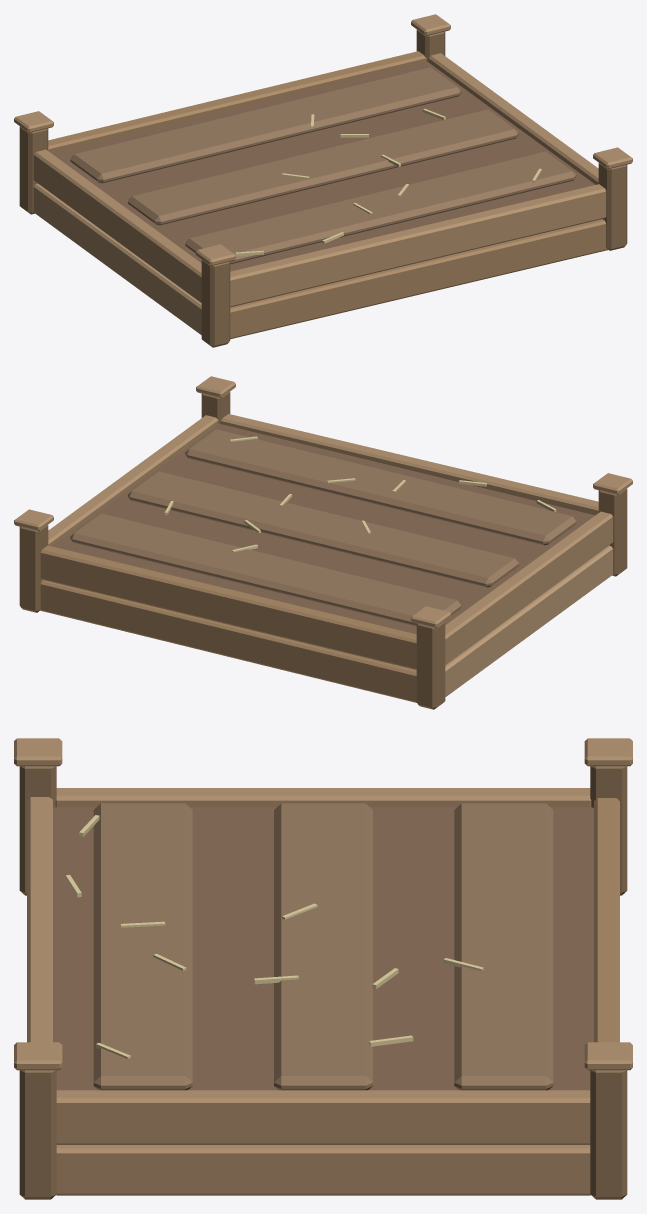
Rendered from garden_bed.glb.
The picture shows the model from 3 angles, top to bottom: view 1: azimuth 30°, elevation 25°; view 2: azimuth 150°, elevation 25°; view 3: azimuth 270°, elevation 25°; orthographic projection. The views are drawn at different scales.
Parts seen in each view (by area): view 1: GardenBed; view 2: GardenBed; view 3: GardenBed.
Part boxes in pixels (bbox=[...]): GardenBed: bbox=[14, 14, 632, 347]; GardenBed: bbox=[14, 376, 632, 709]; GardenBed: bbox=[14, 738, 632, 1199].
Bounding box in the file's own units: 2.07 × 0.4276 × 1.67.
